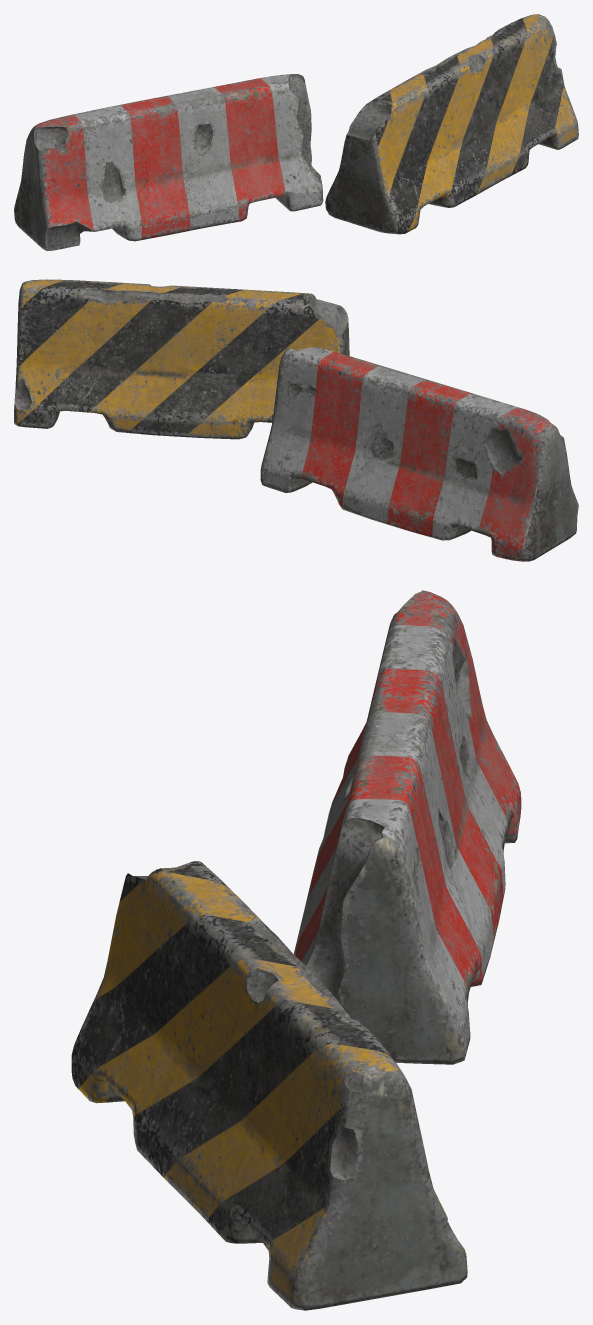
File: weathered_concrete_barriers_(Sketchfab).fbx
3 renders of one model, top to bottom at view 1: azimuth 30°, elevation 25°; view 2: azimuth 150°, elevation 25°; view 3: azimuth 270°, elevation 25°, orthographic. The views are drawn at different scales.
Parts seen in each view (by area): view 1: concrete_barriers_barrier_red, concrete_barriers_barrier_yellow; view 2: concrete_barriers_barrier_red, concrete_barriers_barrier_yellow; view 3: concrete_barriers_barrier_yellow, concrete_barriers_barrier_red.
Boxes of the visible parts, <box> form: concrete_barriers_barrier_red: <box>14,74,323,250</box>; concrete_barriers_barrier_yellow: <box>325,14,578,234</box>; concrete_barriers_barrier_red: <box>260,347,578,561</box>; concrete_barriers_barrier_yellow: <box>14,279,349,439</box>; concrete_barriers_barrier_yellow: <box>71,861,467,1310</box>; concrete_barriers_barrier_red: <box>294,590,521,1064</box>.
Size of the model in its own units: 397 by 82.98 by 149.
